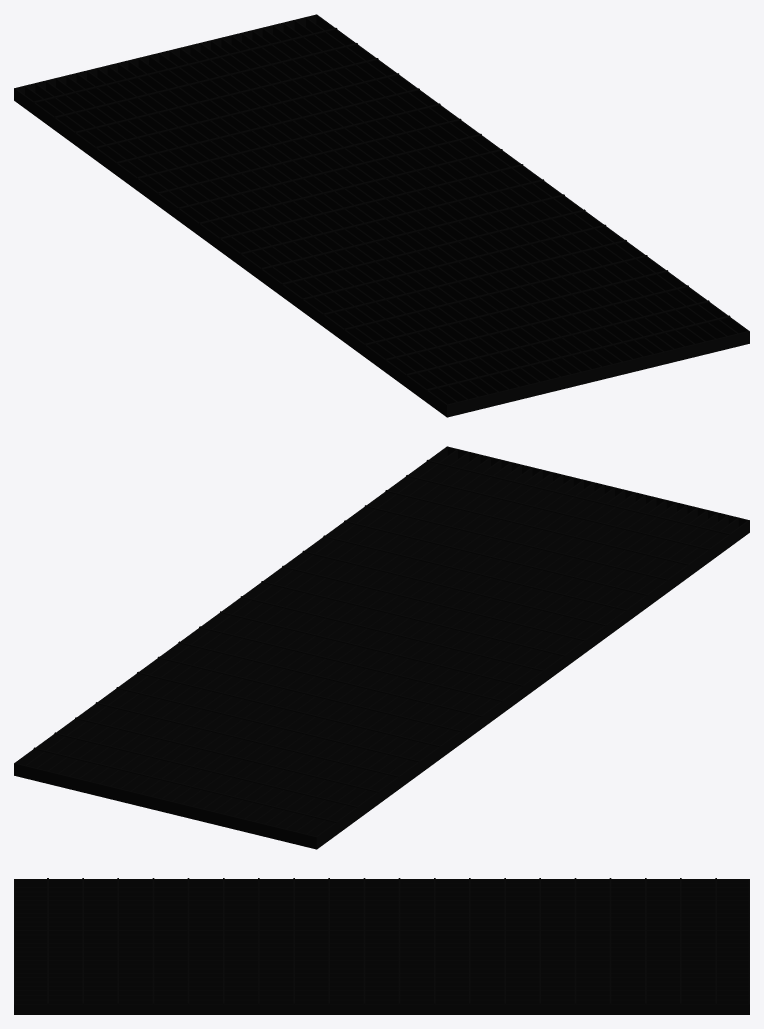
The model's file is Grate_02_VRay_StemCell.obj.
3 views of the same model, one above another, from view 1: azimuth 30°, elevation 25°; view 2: azimuth 150°, elevation 25°; view 3: azimuth 270°, elevation 25° (orthographic). The views are drawn at different scales.
Parts seen in each view (by area): view 1: Grate_Type_II_Low; view 2: Grate_Type_II_Low; view 3: Grate_Type_II_Low.
Part boxes in pixels (x1,y1,x2,y2): Grate_Type_II_Low: (14,14,749,417); Grate_Type_II_Low: (14,446,749,849); Grate_Type_II_Low: (14,878,749,1014).
Size of the model in its own units: 80.63 by 3.39 by 200.
